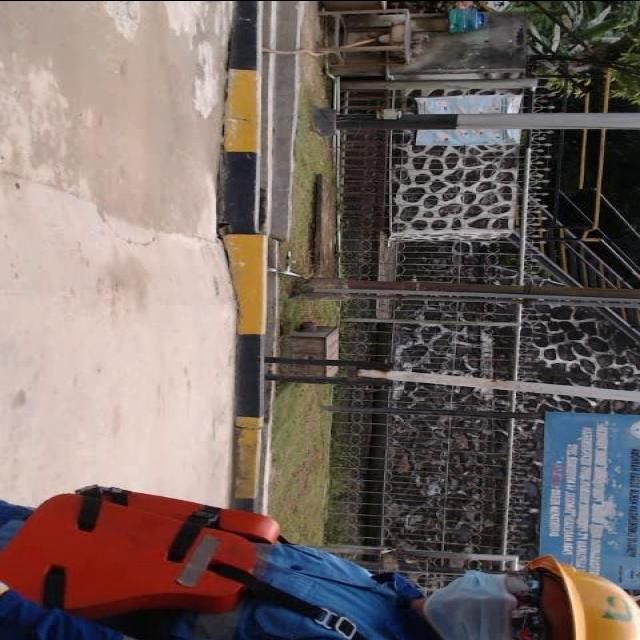helmet: (509, 564, 640, 640)
jacket: (9, 483, 423, 640)
